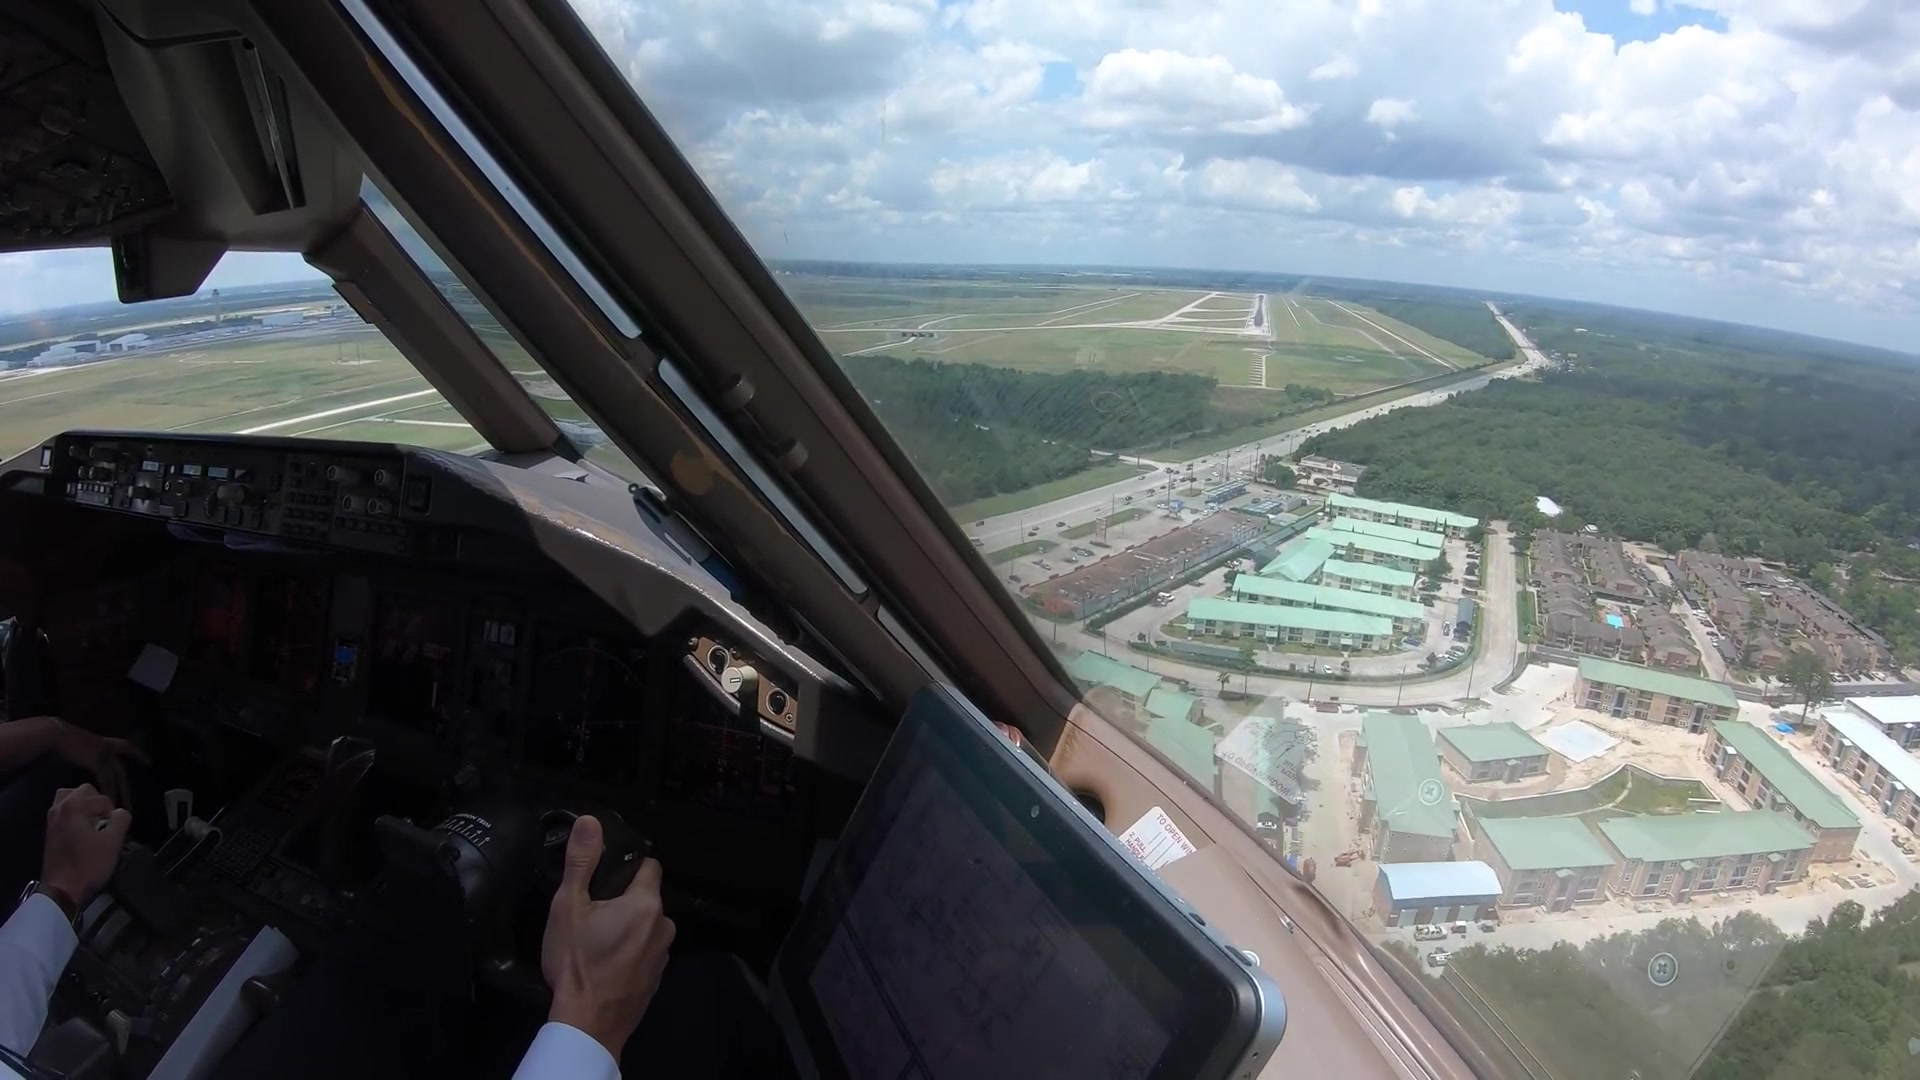runway: (1244, 291, 1271, 338)
